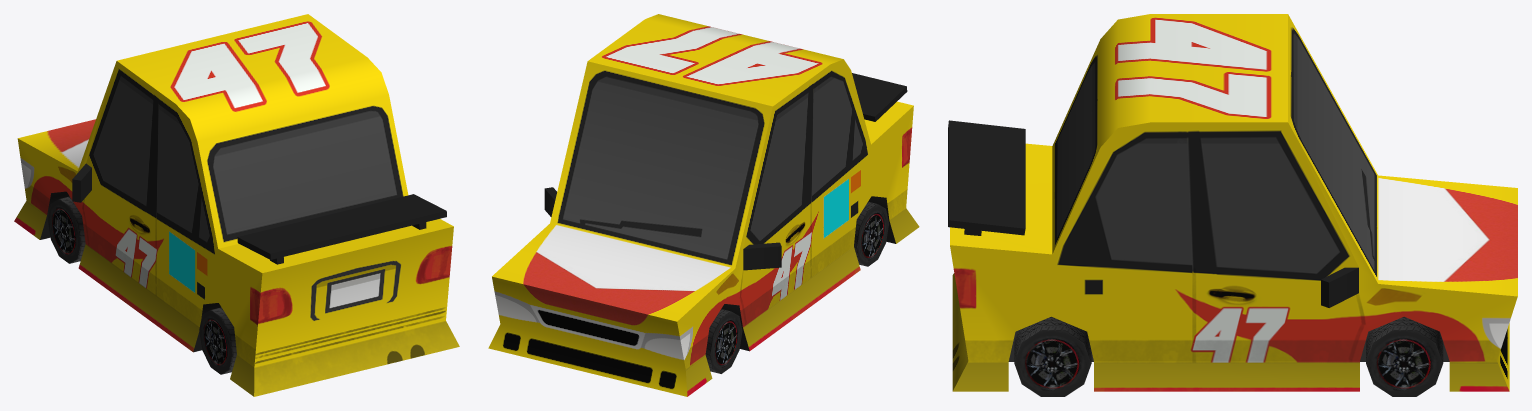
The model's file is SportsCar_Yellow.fbx.
The picture shows the model from 3 angles, left to right: view 1: azimuth 30°, elevation 25°; view 2: azimuth 150°, elevation 25°; view 3: azimuth 270°, elevation 25°; orthographic projection. The views are drawn at different scales.
Parts seen in each view (by area): view 1: sportsCar_yellow_body, wheelBL, wheelFL; view 2: sportsCar_yellow_body, wheelFL, wheelBL; view 3: sportsCar_yellow_body, wheelFR, wheelBR.
Part boxes in pixels (box(x1,y1,x2,y2)): sportsCar_yellow_body: box(14, 14, 459, 396); wheelBL: box(199, 307, 236, 374); wheelFL: box(47, 196, 85, 263); sportsCar_yellow_body: box(488, 14, 919, 396); wheelFL: box(705, 309, 742, 373); wheelBL: box(854, 201, 888, 266); sportsCar_yellow_body: box(948, 14, 1517, 391); wheelFR: box(1366, 316, 1443, 396); wheelBR: box(1014, 316, 1091, 396).
Size of the model in its own units: 242 by 222 by 420.
Materials: 1 (1 with a texture image).
